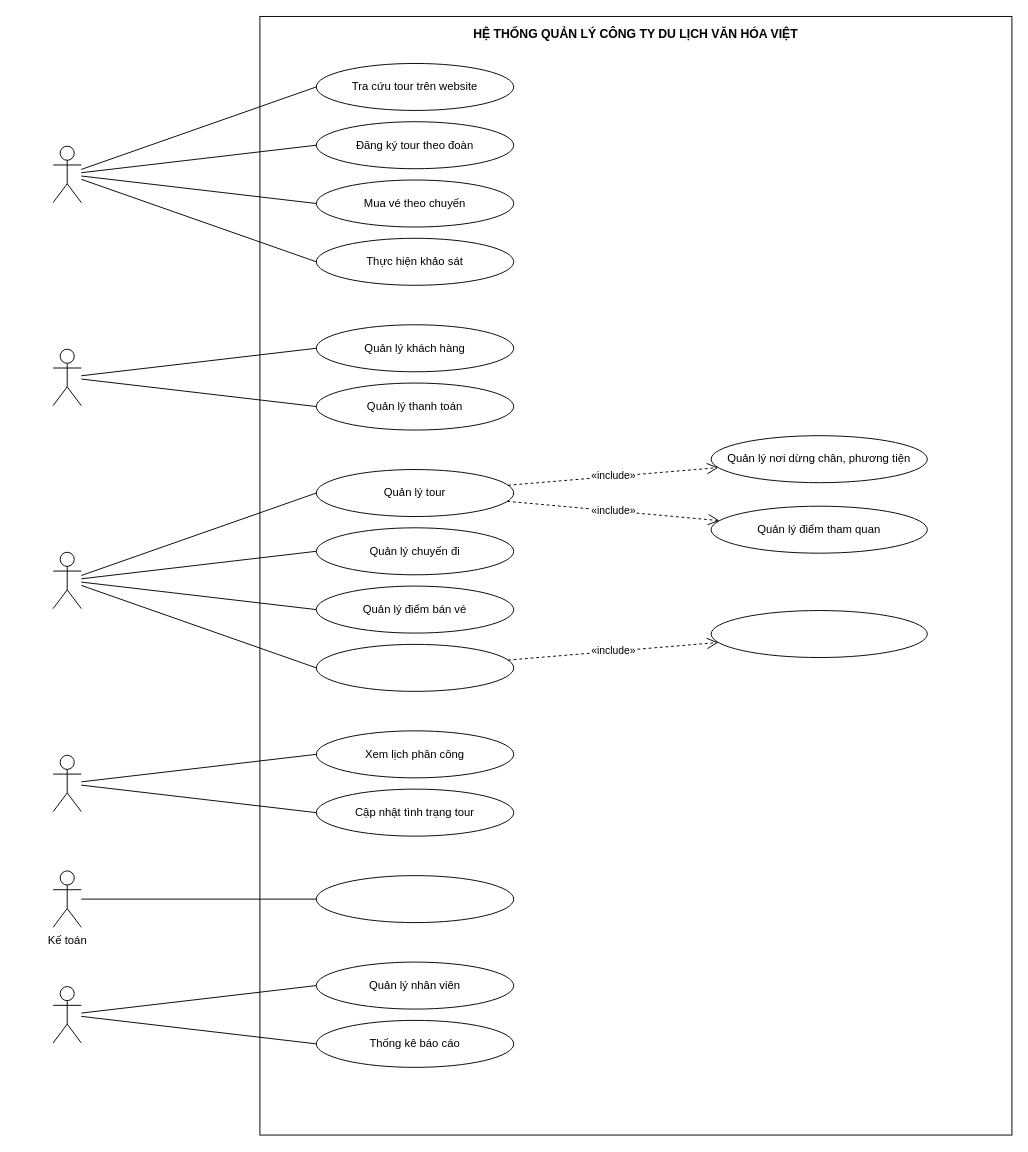
This 1028x1152 diagram has some shape labels left out. Here are the shapes that lost their labels. From the top down, the centre of each, then its label:
At point 66,174: "Khách hàng".
At point 66,377: "NV đăng ký / bán vé".
At point 66,580: "NV điều hành".
At point 818,634: "Kiểm tra trùng lịch".
At point 414,667: "Phân công HDV".
At point 66,783: "NV hướng dẫn".
At point 414,899: "Tính lương".
At point 66,1014: "Ban quản lý".
